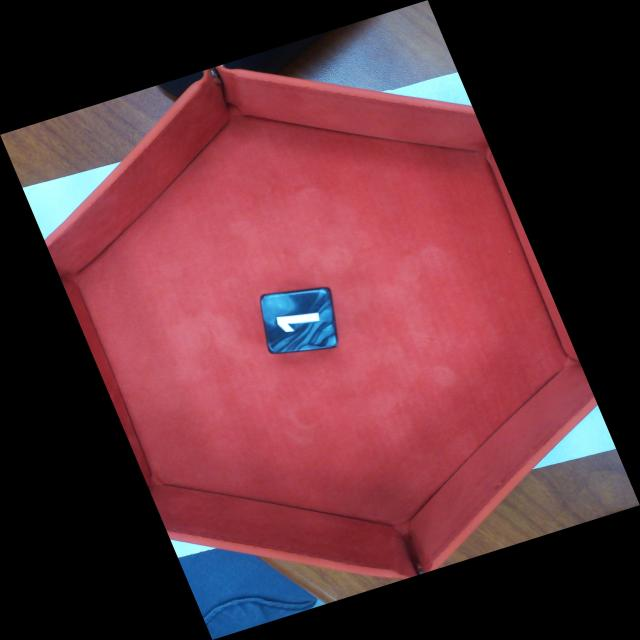dice: (256, 289, 339, 352)
